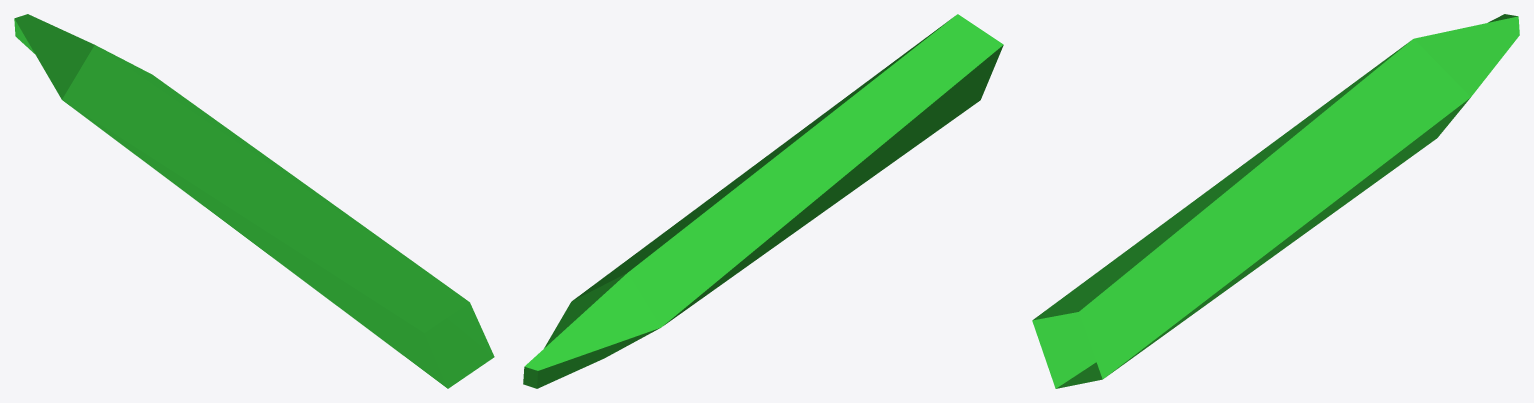
The model's file is Saber.obj.
3 renders of one model, left to right at view 1: azimuth 30°, elevation 25°; view 2: azimuth 150°, elevation 25°; view 3: azimuth 330°, elevation 25°, orthographic.
Visible parts, largest first — view 1: Cube; view 2: Cube; view 3: Cube.
Part boxes in pixels (<box>): Cube: <box>14,14,494,388</box>; Cube: <box>523,14,1003,388</box>; Cube: <box>1032,14,1519,388</box>.
Bounding box in the file's own units: 1.14 × 1.11 × 9.61.
